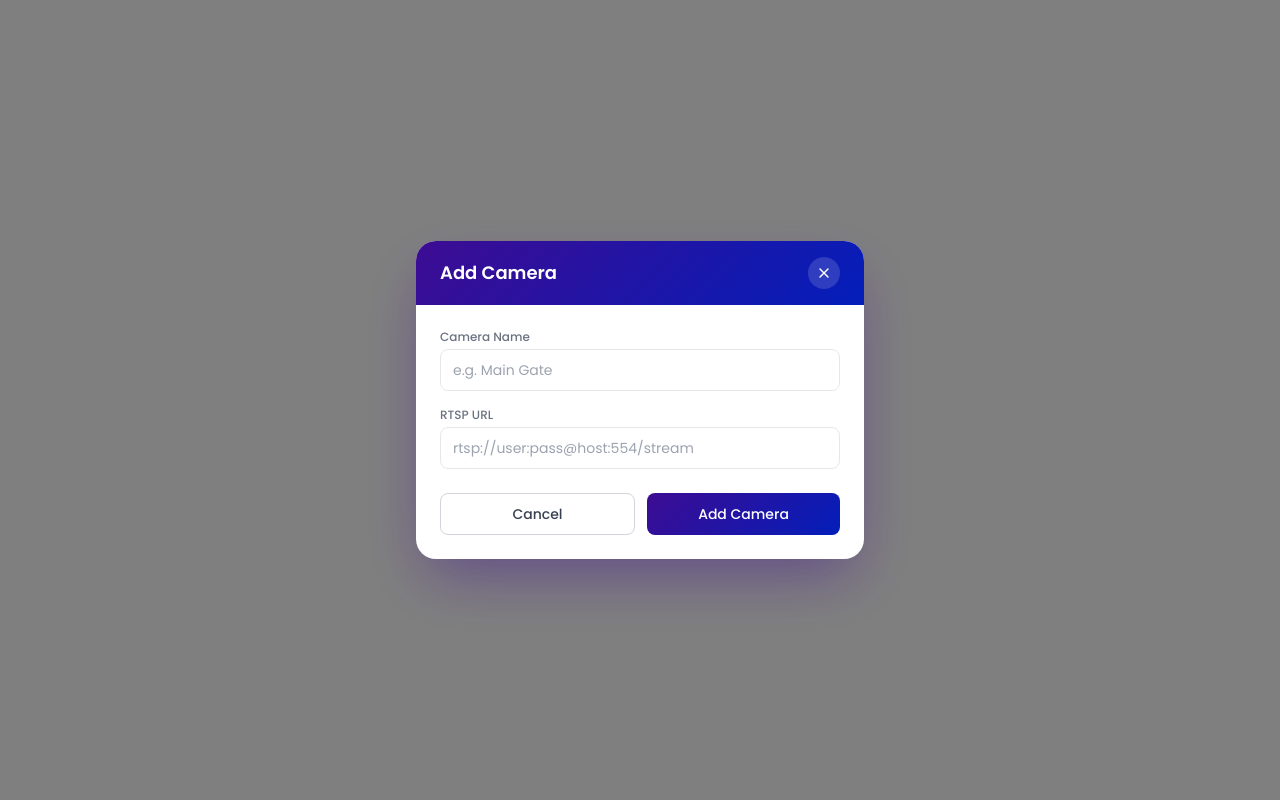
Test: CameraFormModal › shows a validation error and does not submit when a field is empty
The width and height of the screenshot is (1280, 800).
Click the button "Add Camera".
click(744, 514)  # box [647,493,840,535]
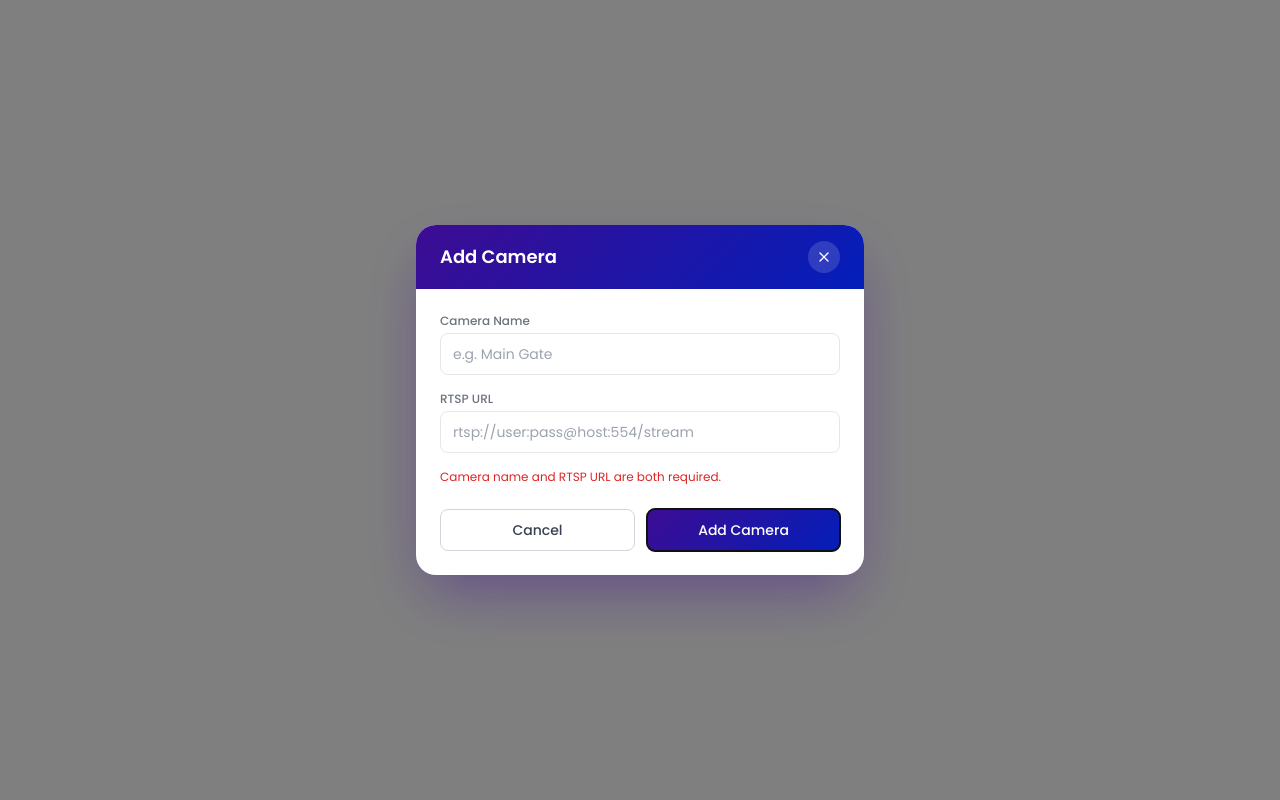
Now the text "Camera name and RTSP URL are both required." is shown, box [440,468,721,485]
